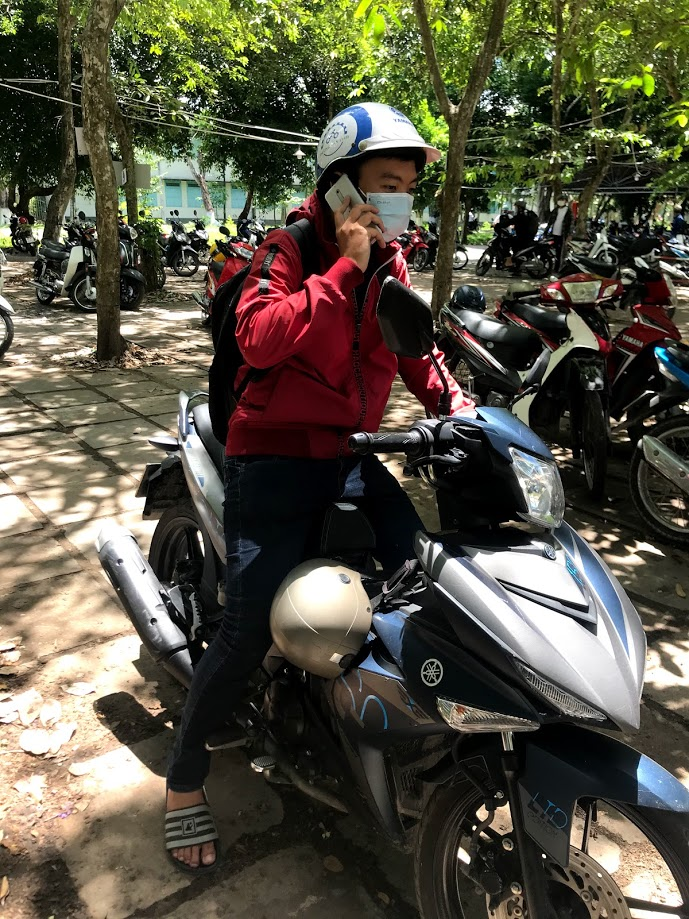dieu khien xe may: (234, 99, 648, 754)
su dung dien thoai: (312, 103, 429, 276)
